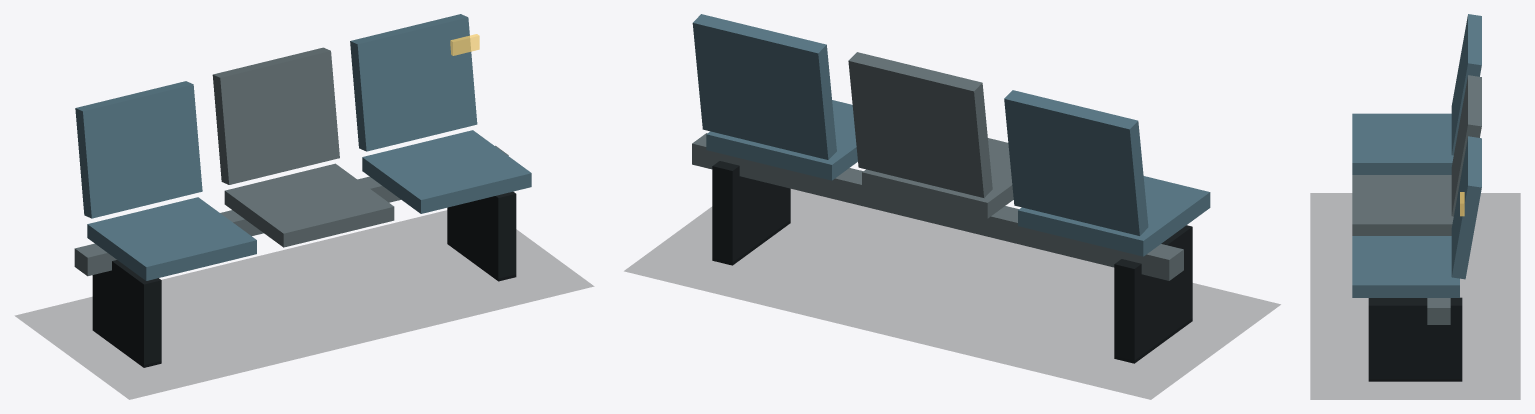
File: hp_room_rm_clinic_waiting_row.glb
3 renders of one model, left to right at view 1: azimuth 30°, elevation 25°; view 2: azimuth 150°, elevation 25°; view 3: azimuth 270°, elevation 25°, orthographic. The views are drawn at different scales.
Parts seen in each view (by area): view 1: contact_shadow, back_-0.62, back_0, back_0.62, seat_0, seat_-0.62, seat_0.62, beam_leg_l, beam_leg_r, row_beam; view 2: contact_shadow, back_0, back_-0.62, back_0.62, row_beam, beam_leg_l, beam_leg_r, seat_-0.62, seat_0, seat_0.62; view 3: contact_shadow, beam_leg_r, seat_0.62, seat_-0.62, seat_0, back_0.62, back_-0.62, back_0, row_beam.
Boxes of the visible parts, <box> form: contact_shadow: <box>15,210,593,399</box>; back_-0.62: <box>75,81,202,218</box>; back_0: <box>212,47,339,184</box>; back_0.62: <box>350,14,477,151</box>; seat_0: <box>224,163,394,247</box>; seat_-0.62: <box>87,197,256,280</box>; seat_0.62: <box>362,130,531,213</box>; beam_leg_l: <box>92,260,161,367</box>; beam_leg_r: <box>447,191,516,281</box>; row_beam: <box>74,145,508,276</box>; contact_shadow: <box>624,189,1280,399</box>; back_0: <box>848,52,992,197</box>; back_-0.62: <box>1004,90,1148,235</box>; back_0.62: <box>692,14,836,159</box>; row_beam: <box>692,133,1183,280</box>; beam_leg_l: <box>1114,225,1192,363</box>; beam_leg_r: <box>712,161,790,265</box>; seat_-0.62: <box>1018,176,1210,256</box>; seat_0: <box>862,138,1013,218</box>; seat_0.62: <box>706,100,857,180</box>; contact_shadow: <box>1310,193,1520,399</box>; beam_leg_r: <box>1368,297,1462,381</box>; seat_0.62: <box>1352,236,1459,297</box>; seat_-0.62: <box>1352,113,1453,174</box>; seat_0: <box>1352,175,1453,235</box>; back_0.62: <box>1451,136,1481,279</box>; back_-0.62: <box>1451,14,1481,155</box>; back_0: <box>1451,75,1481,216</box>; row_beam: <box>1427,298,1450,324</box>.
Bounding box in the file's own units: 2.1 × 0.942 × 0.9.
